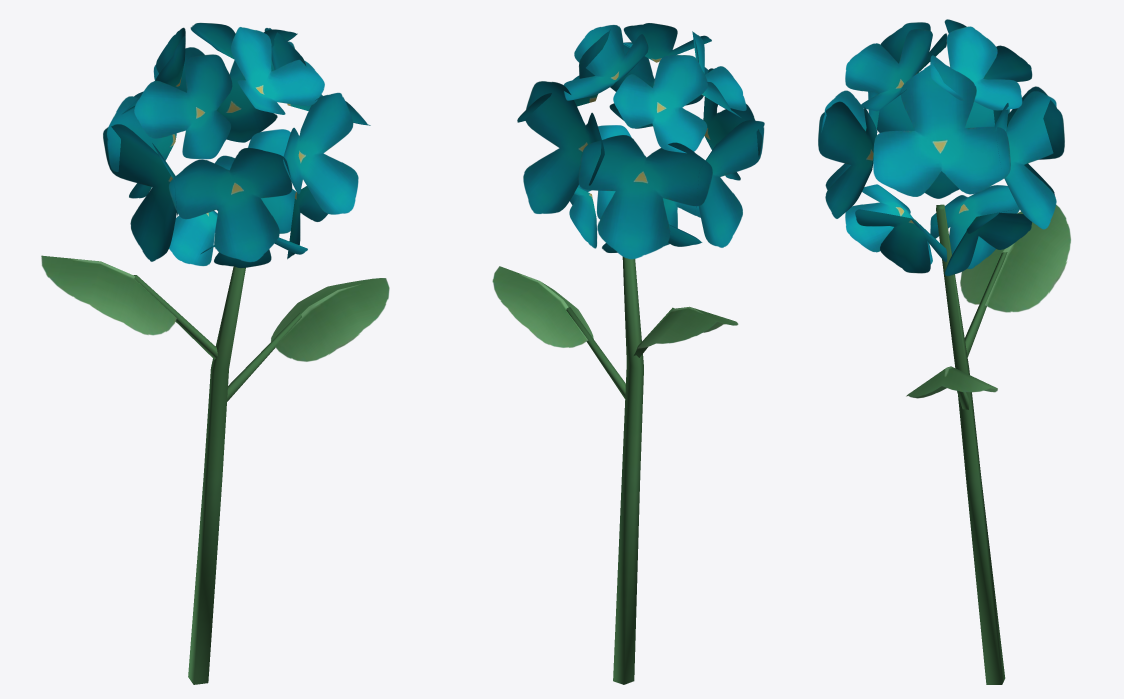
Rendered from Flower_1.glb.
3 views of the same model, side by side, from view 1: azimuth 30°, elevation 25°; view 2: azimuth 150°, elevation 25°; view 3: azimuth 270°, elevation 25° (orthographic). The views are drawn at different scales.
Parts seen in each view (by area): view 1: Flower_1; view 2: Flower_1; view 3: Flower_1.
Boxes of the visible parts, box(x1,y1,x2,y2) form: Flower_1: box(41, 22, 389, 684); Flower_1: box(492, 23, 764, 684); Flower_1: box(818, 19, 1070, 684).
Bounding box in the file's own units: 0.2677 × 0.4894 × 0.2044.
Materials: 1 (1 with a texture image).
